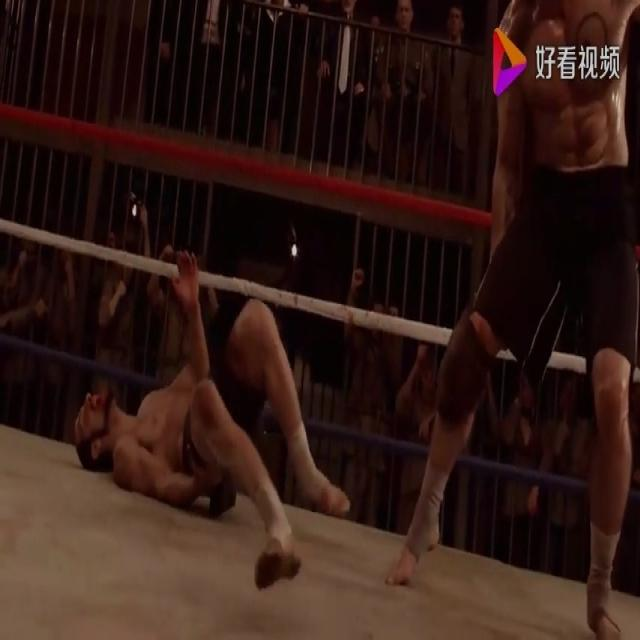fight: (58, 0, 640, 615)
